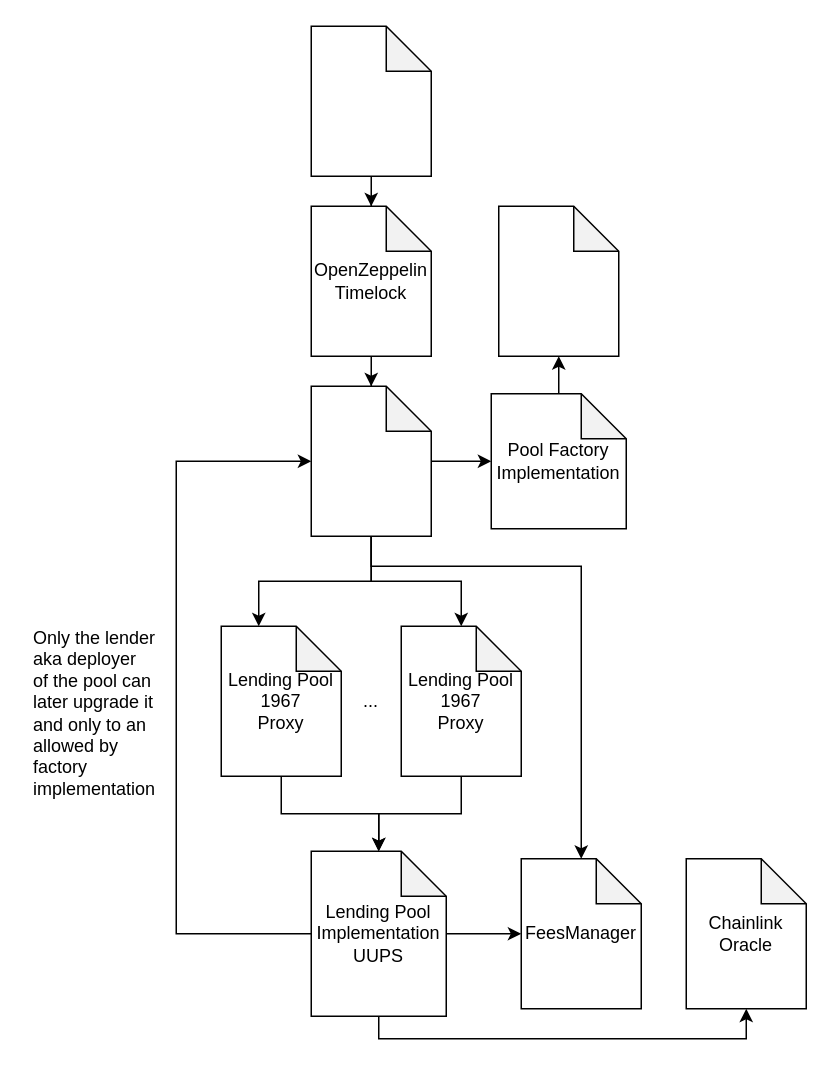
Image size: 833x1077. Some labels were removed from this diagram. Each missing label, with the centre of its shape:
Gnosis: point (370, 100)
License Engine: point (558, 280)
Pool Factory (UUPS upgradeable proxy): point (370, 460)
